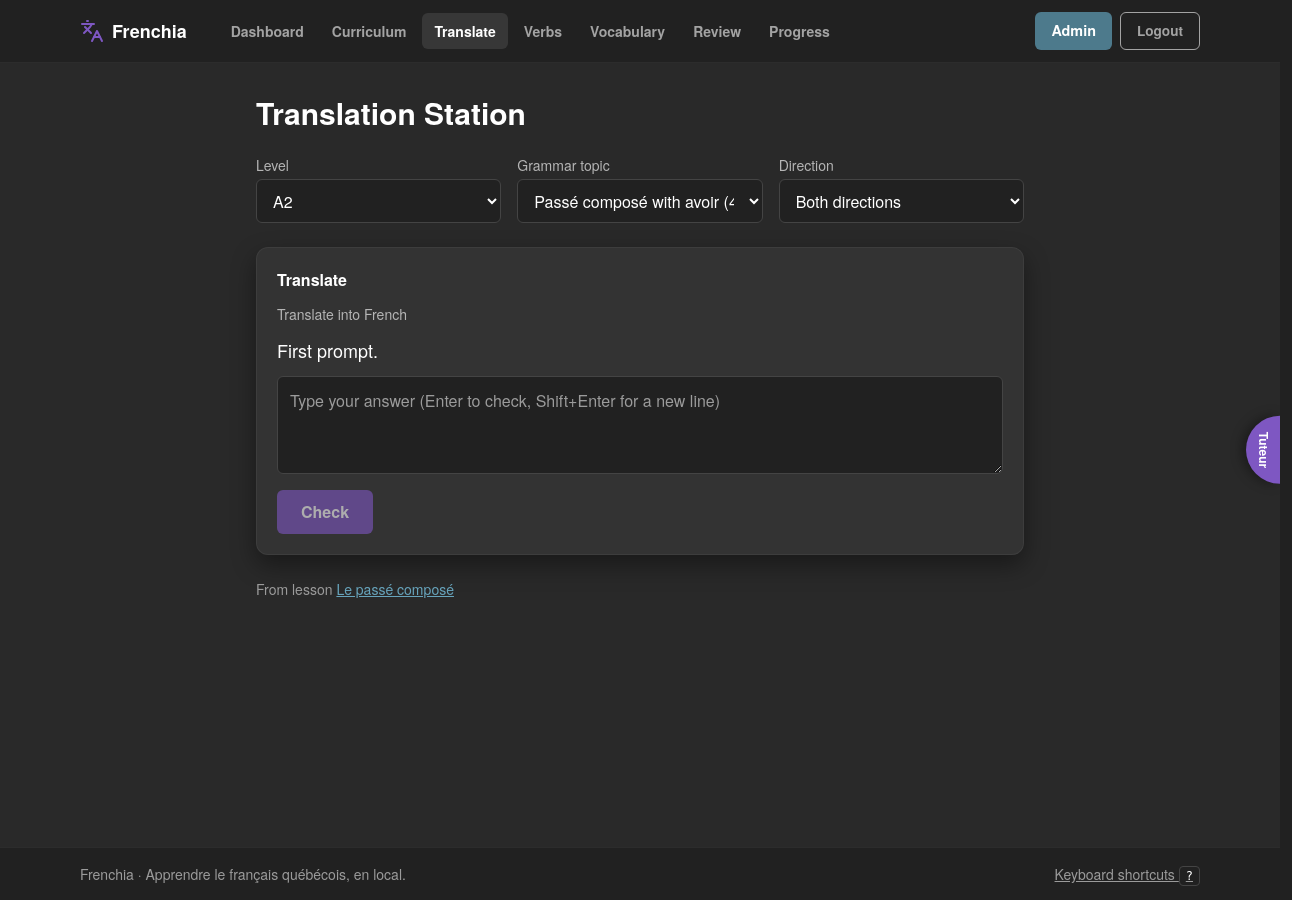
Test: Translation Station › changing level clears the topic
Expected: the text "First prompt." is shown, [277,336,378,364]
Select "A1" in the dropdown labelled "Level". click: (379, 201)
box: [256,179,501,223]
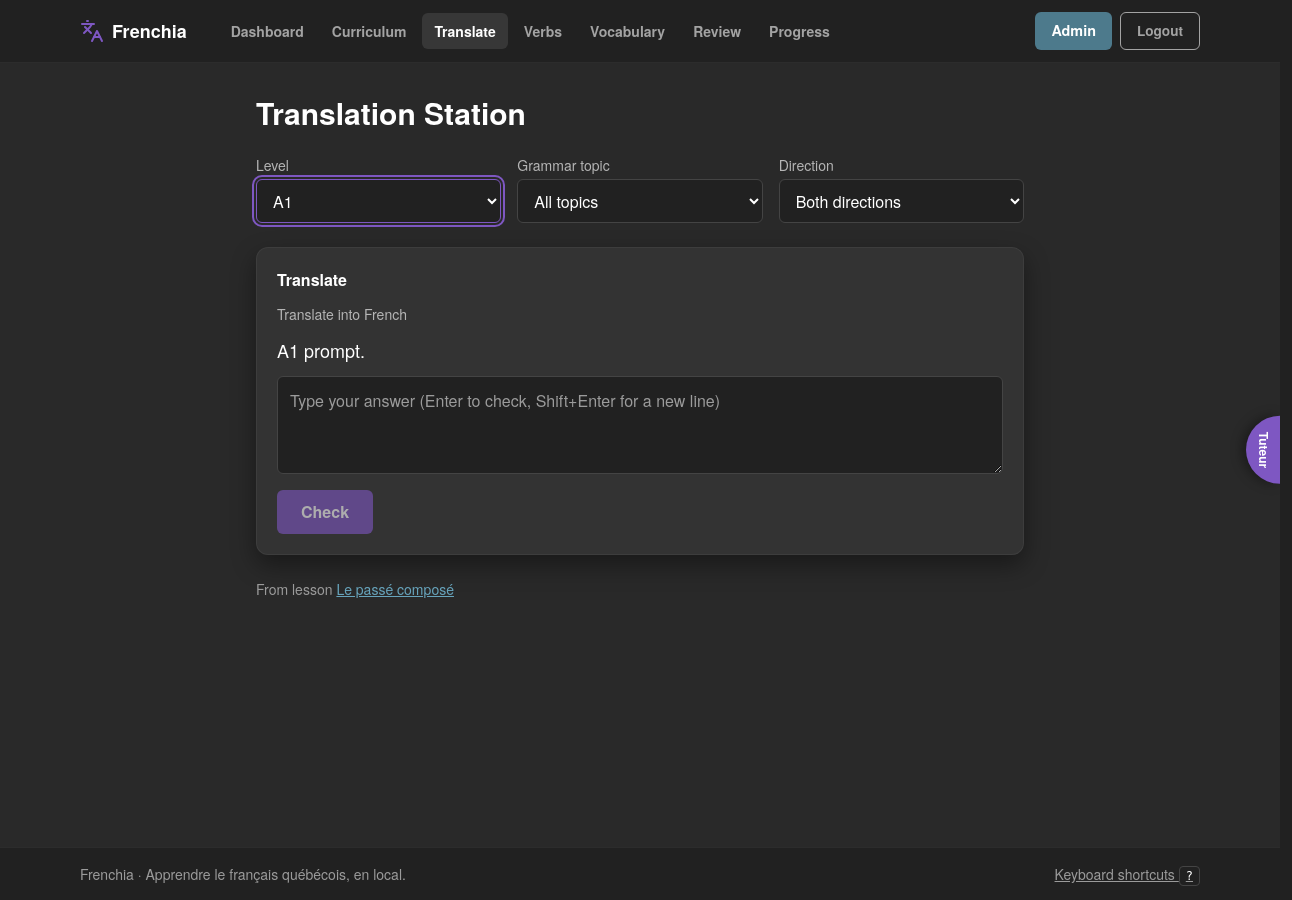
Expected: the text "A1 prompt." is shown, [277,336,365,364]
